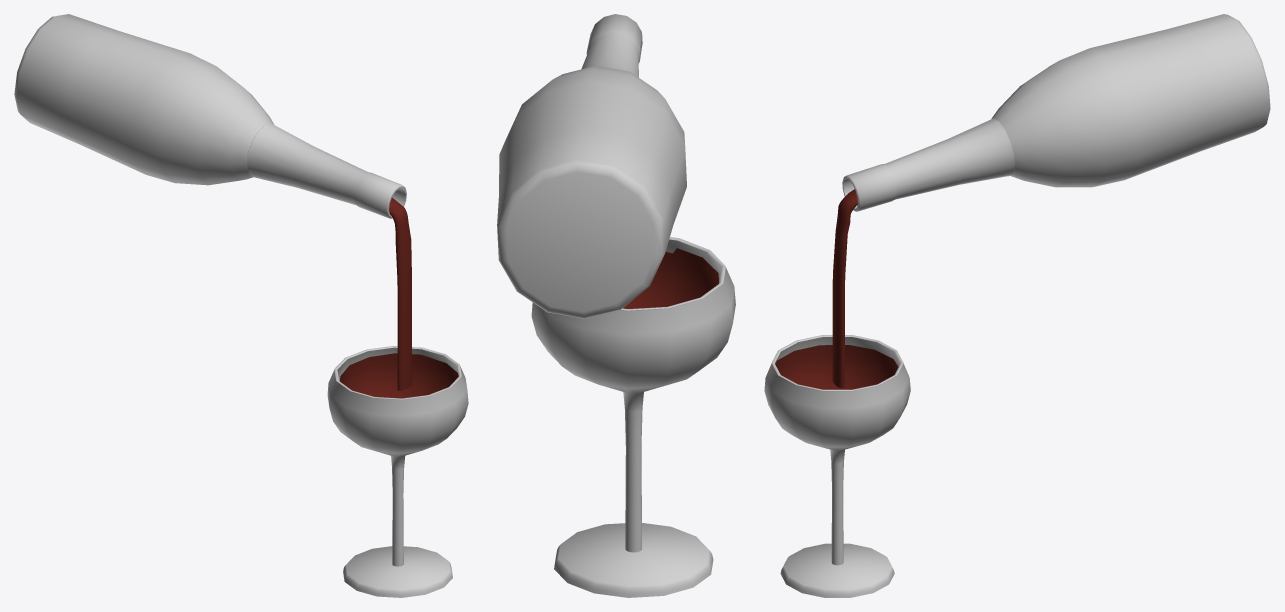
Rendered from Wine-Glass-1.fbx.
3 views of the same model, side by side, from view 1: azimuth 30°, elevation 25°; view 2: azimuth 150°, elevation 25°; view 3: azimuth 270°, elevation 25° (orthographic). The views are drawn at different scales.
Parts seen in each view (by area): view 1: Wine-1.010; view 2: Wine-1.010; view 3: Wine-1.010.
Part boxes in pixels (x1,y1,x2,y2): Wine-1.010: (14,14,468,597); Wine-1.010: (497,14,735,597); Wine-1.010: (764,14,1270,597).
Size of the model in its own units: 0.3723 by 0.6185 by 0.596.
